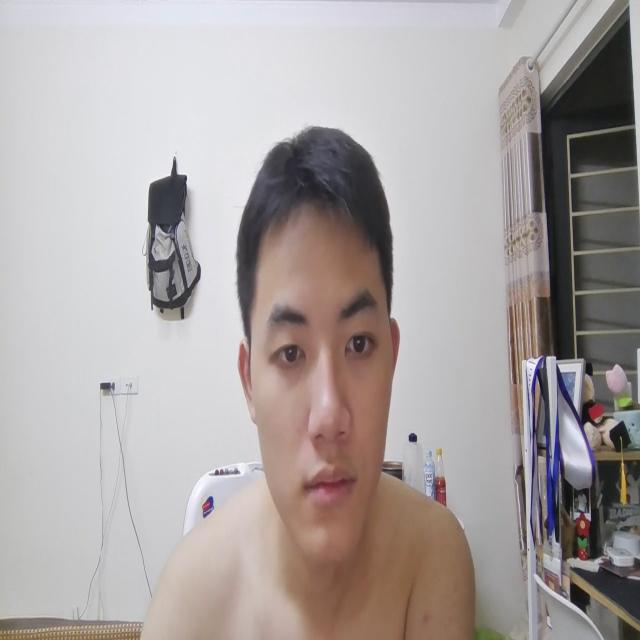student: (232, 117, 403, 593)
